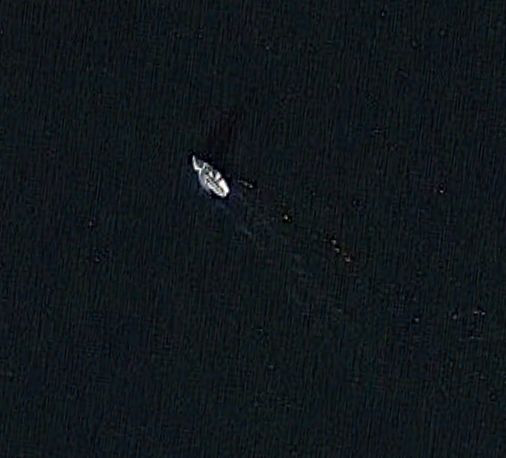boat: (191, 154, 231, 199)
